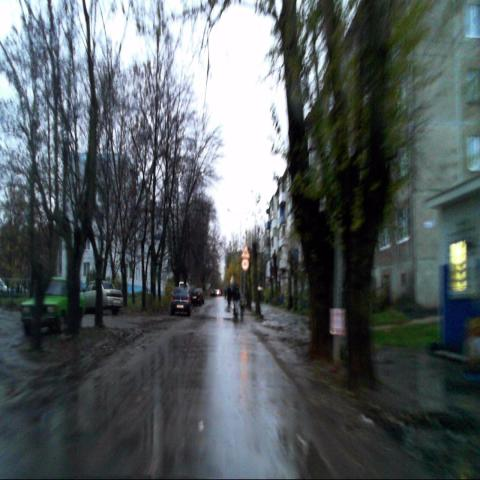1_23: (241, 243, 250, 259)
